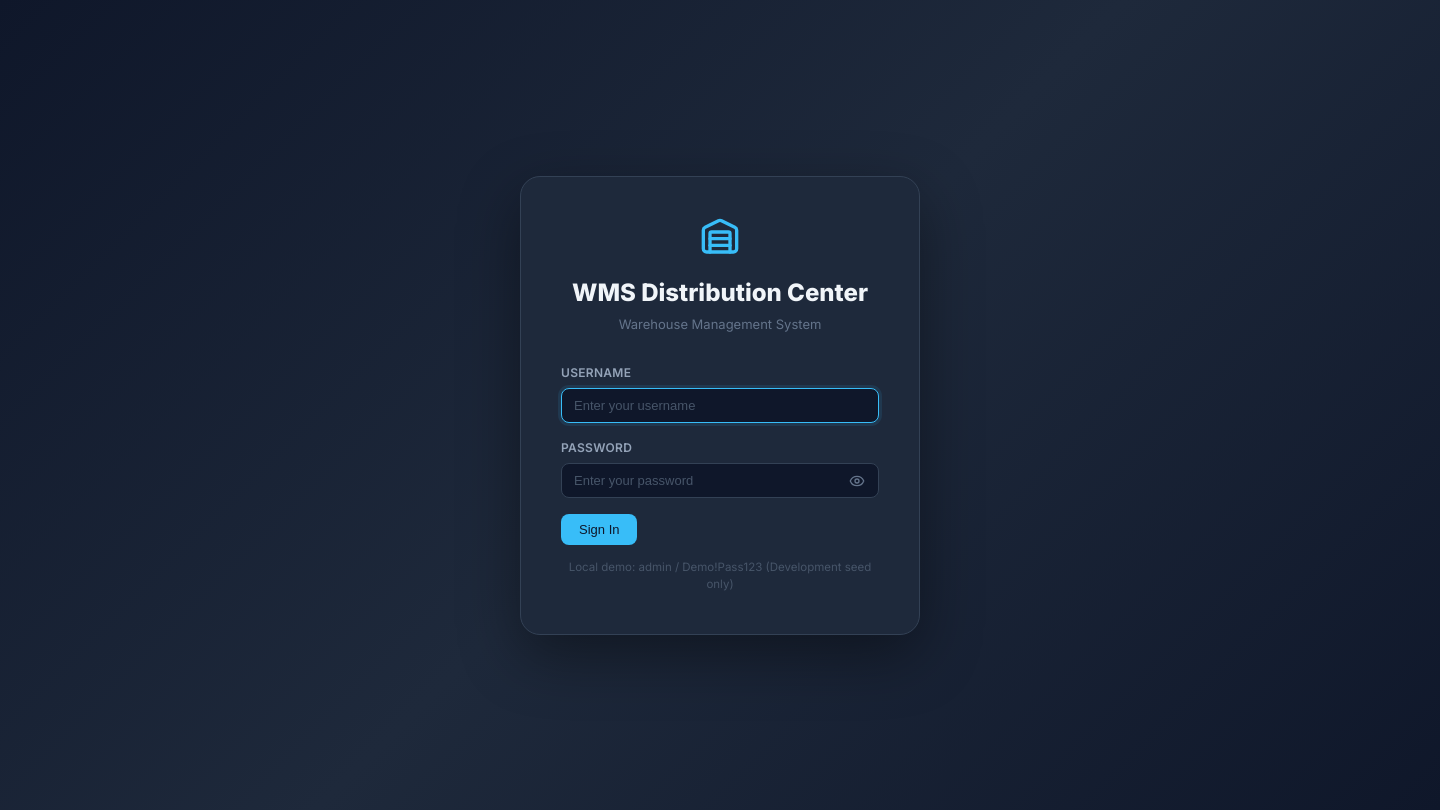
Test: Login page › tells the user when sign-in is rate limited
Type "a" into the field labelled "Username" at (720, 406), box [561, 388, 879, 423]
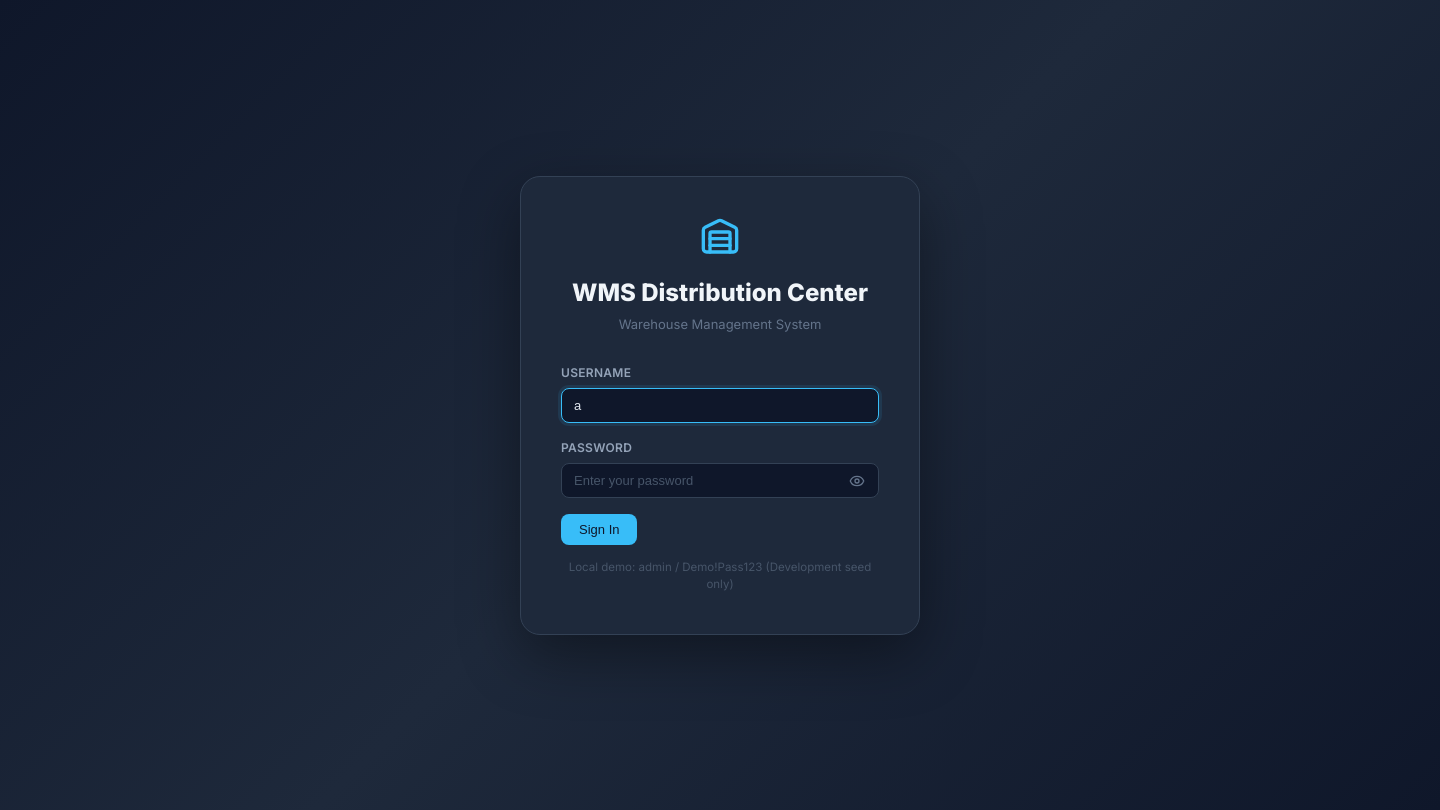
Type "b" into the password field labelled "Password" at (720, 480), box [561, 463, 879, 498]
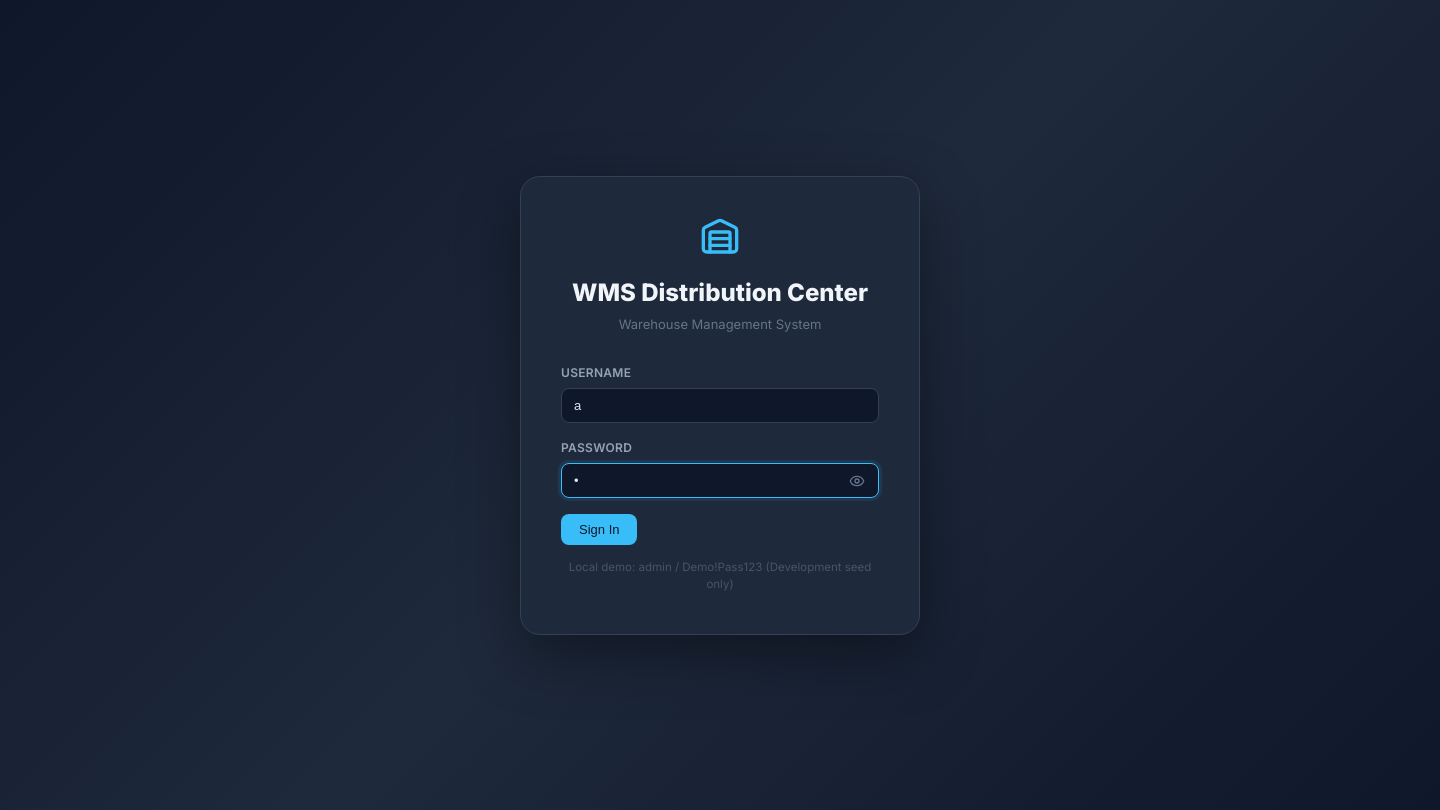
Click the button "Sign In" at (599, 530), box [561, 514, 638, 545]
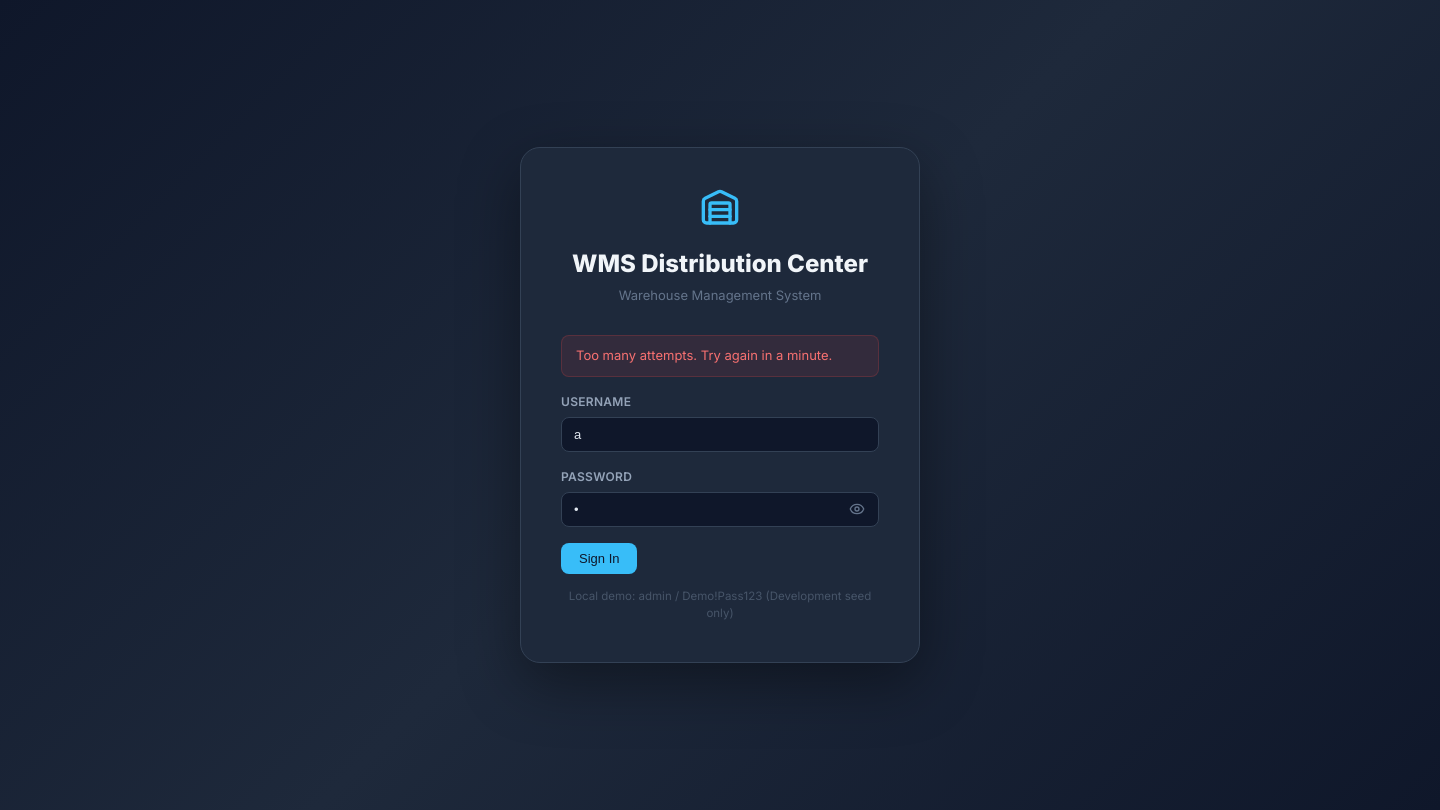
expect the message shows "Too many attempts": met, box [576, 347, 832, 363]
